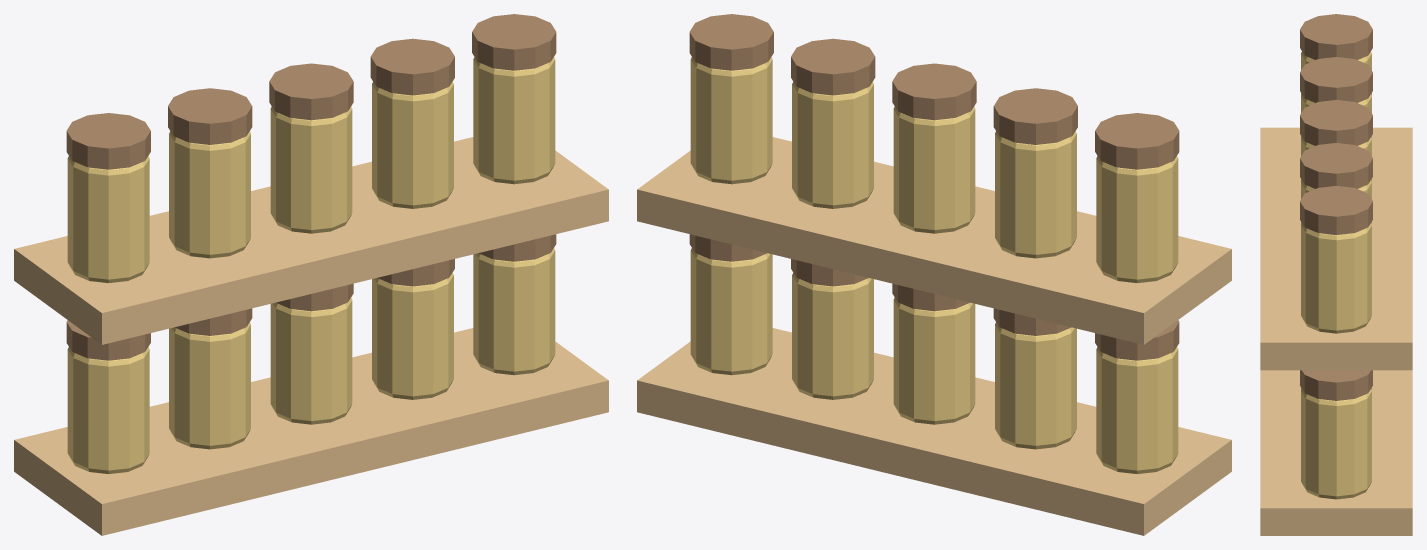
File: cozy-home-interiors-spice-rack-f14f8a07.glb
The picture shows the model from 3 angles, left to right: view 1: azimuth 30°, elevation 25°; view 2: azimuth 150°, elevation 25°; view 3: azimuth 270°, elevation 25°; orthographic projection. The views are drawn at different scales.
Parts seen in each view (by area): view 1: spice-rack; view 2: spice-rack; view 3: spice-rack.
Part boxes in pixels (bbox=[...]): spice-rack: bbox=[14, 14, 608, 535]; spice-rack: bbox=[637, 14, 1231, 535]; spice-rack: bbox=[1260, 14, 1412, 535].
Bounding box in the file's own units: 0.5 × 0.34 × 0.15.
